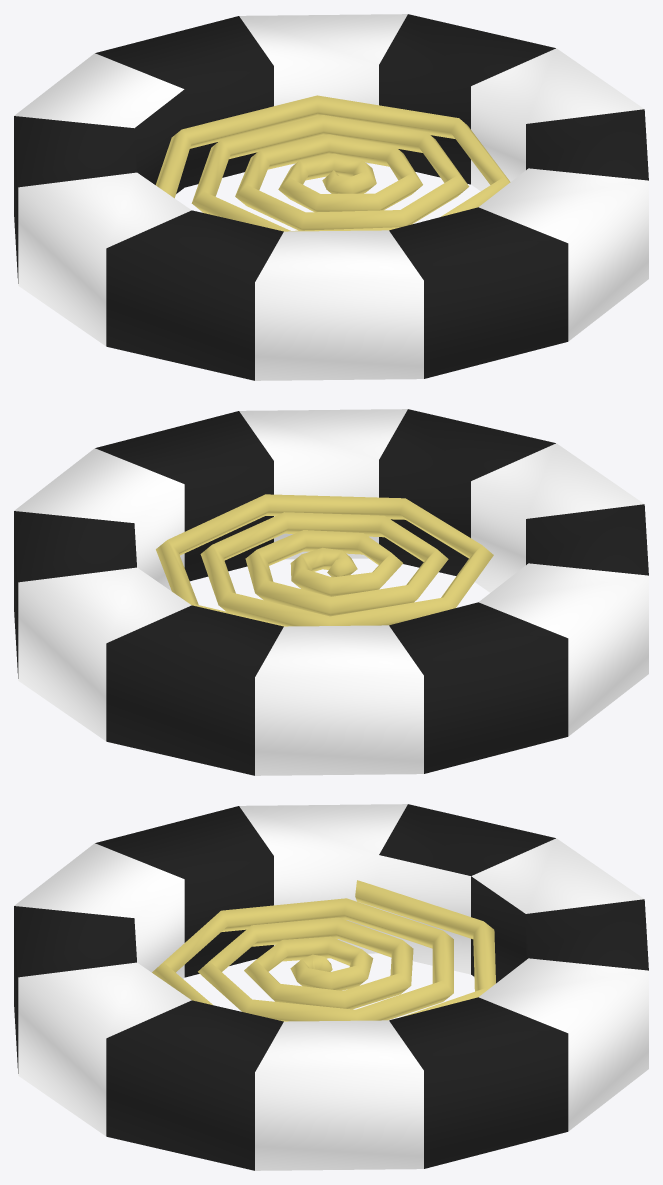
Rendered from bet_chip.glb.
The picture shows the model from 3 angles, top to bottom: view 1: azimuth 30°, elevation 25°; view 2: azimuth 150°, elevation 25°; view 3: azimuth 270°, elevation 25°; orthographic projection.
Visible parts, largest first — view 1: Circle.004; view 2: Circle.004; view 3: Circle.004.
Boxes of the visible parts, x1,y1,x2,y2 form: Circle.004: (14,14,648,380); Circle.004: (14,409,648,775); Circle.004: (14,804,648,1170).
Bounding box in the file's own units: 0.0138 × 0.00237 × 0.0138.
Materials: 1 (1 with a texture image).
